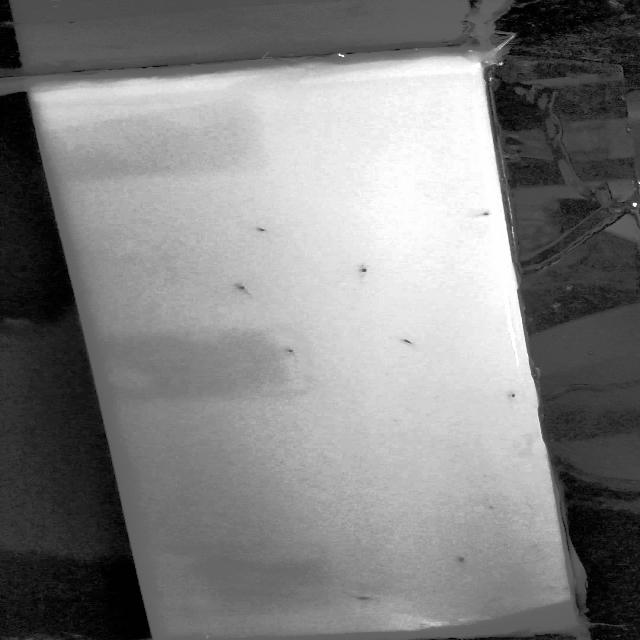shrimp: (378, 334, 419, 348), (352, 263, 379, 281), (273, 346, 310, 359), (498, 388, 527, 403), (445, 554, 476, 568), (350, 593, 382, 606), (462, 206, 492, 219), (248, 224, 276, 237), (230, 284, 258, 296)
